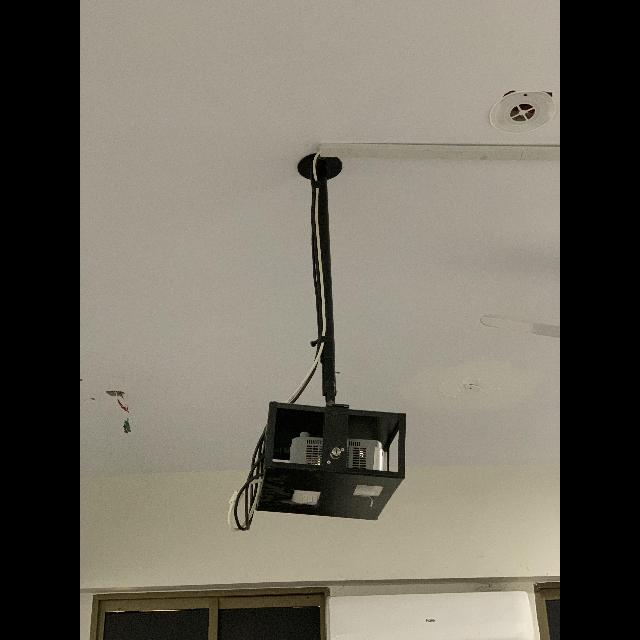Projector: (253, 400, 407, 522)
